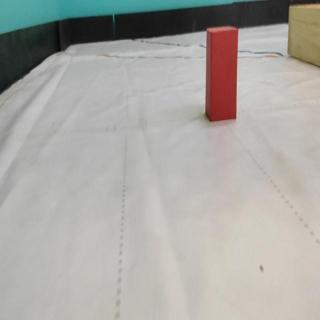redbox: (205, 25, 239, 123)
